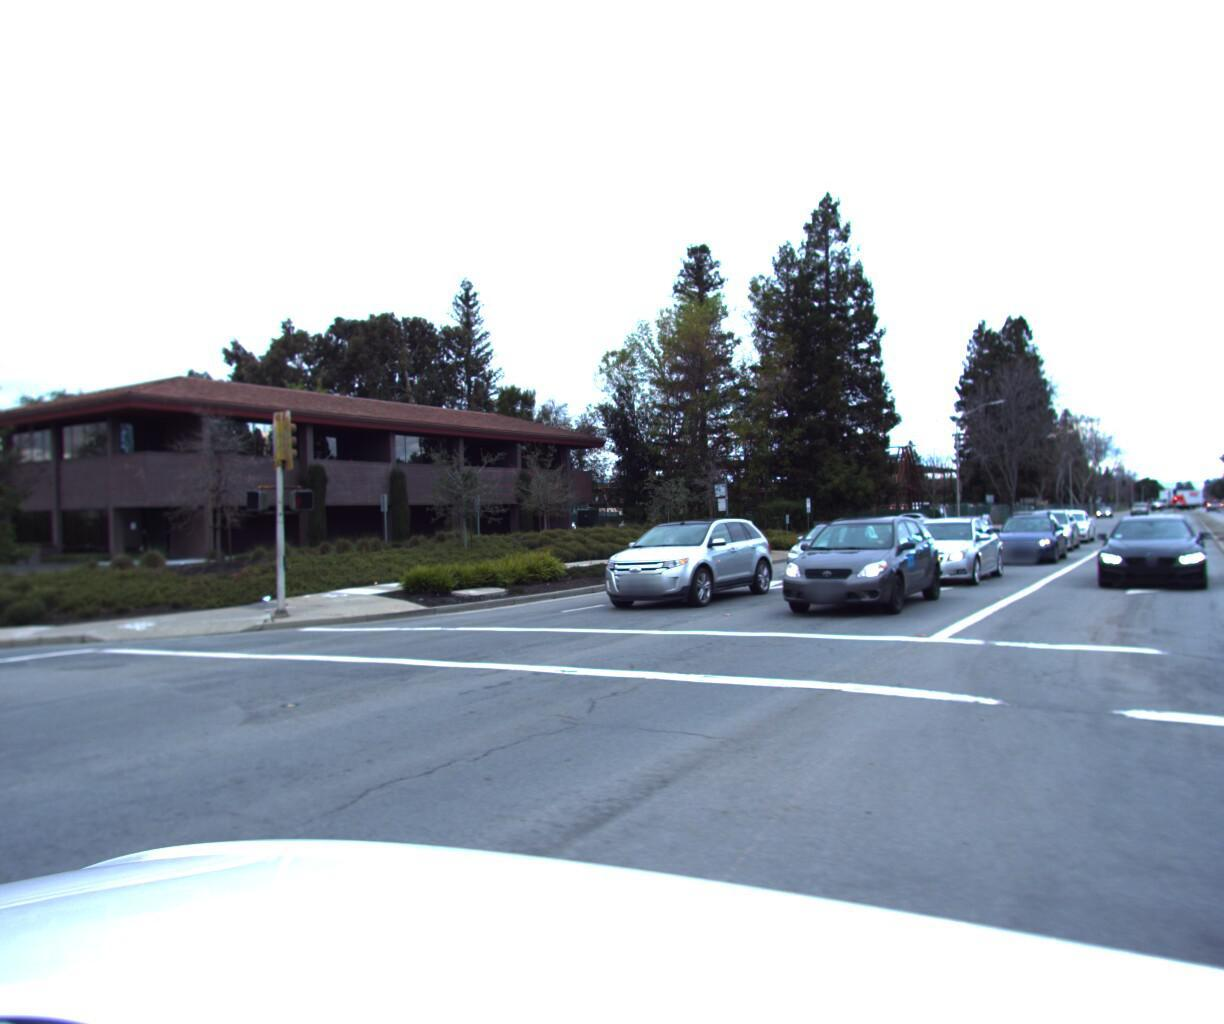car: (769, 513, 956, 627), (587, 514, 783, 614), (1094, 511, 1217, 592), (882, 513, 1012, 587), (777, 519, 893, 584), (987, 503, 1074, 565), (1009, 506, 1086, 556), (928, 508, 1002, 552), (1040, 505, 1098, 545), (886, 511, 944, 530)
